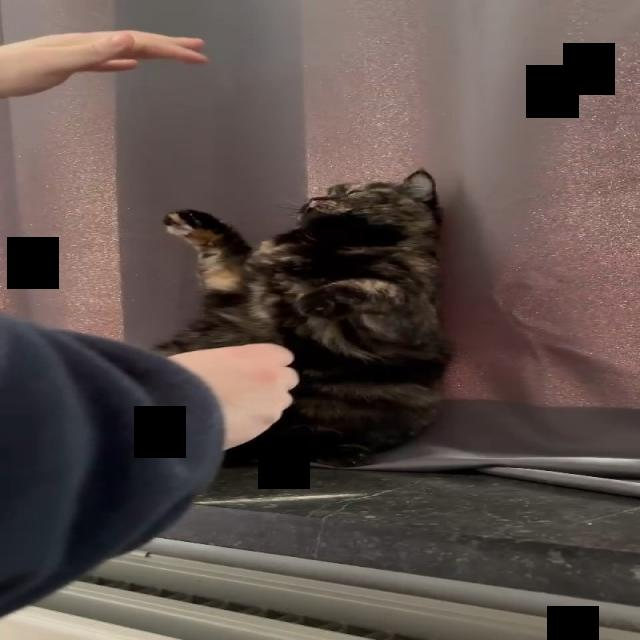authorized: (150, 167, 454, 468)
